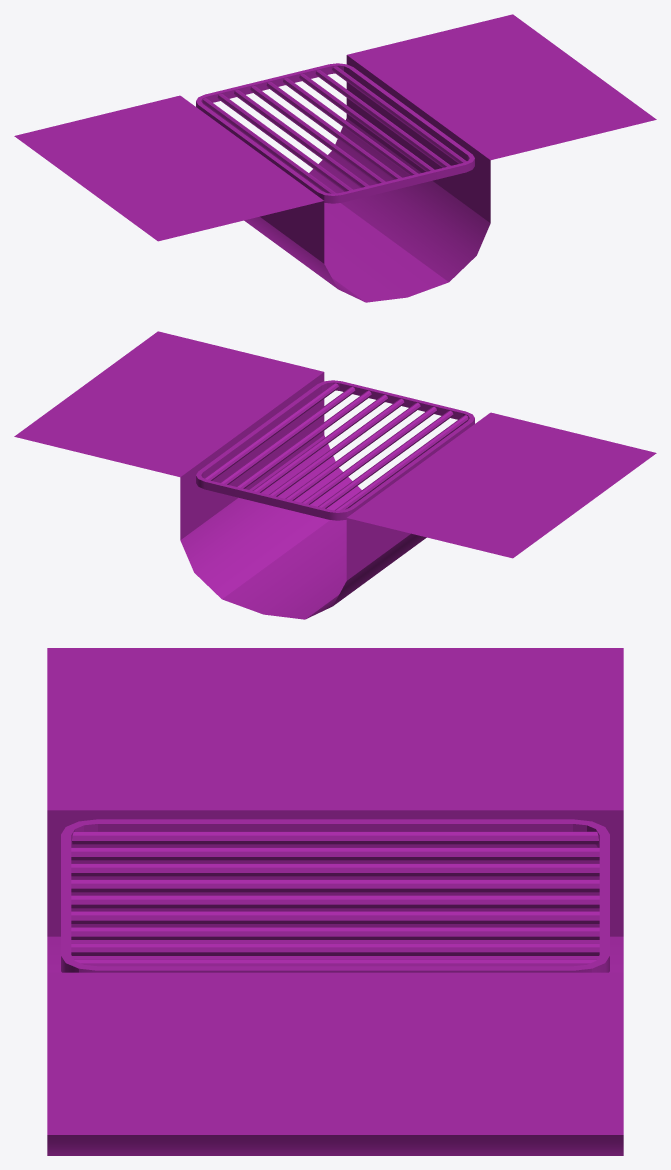
Rendered from SM_Pipes_SewersArena1.fbx.
3 views of the same model, one above another, from view 1: azimuth 30°, elevation 25°; view 2: azimuth 150°, elevation 25°; view 3: azimuth 270°, elevation 25° (orthographic). The views are drawn at different scales.
Visible parts, largest first — view 1: SM_Pipes_SewersArena1; view 2: SM_Pipes_SewersArena1; view 3: SM_Pipes_SewersArena1.
Boxes of the visible parts, box(x1,y1,x2,y2) form: SM_Pipes_SewersArena1: box(14, 14, 656, 302); SM_Pipes_SewersArena1: box(14, 331, 656, 619); SM_Pipes_SewersArena1: box(47, 648, 623, 1155).
Bounding box in the file's own units: 1000 × 224 × 500.
